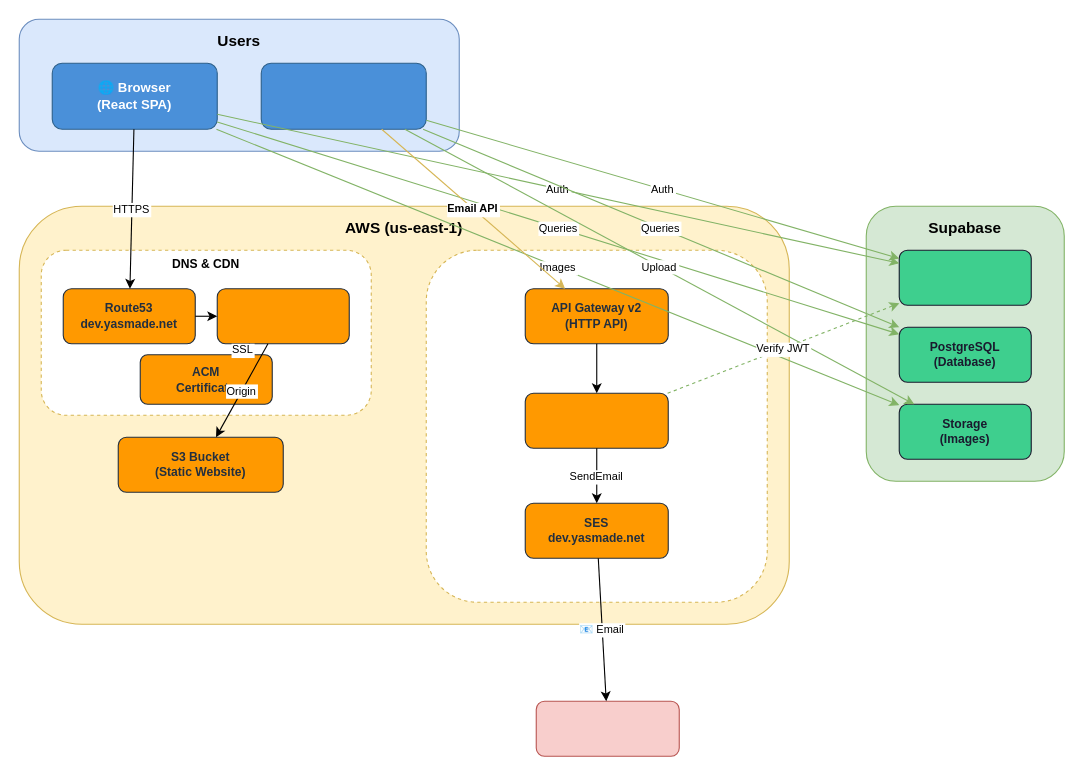
The diagram is 1084 pixels wide and 776 high, and some of its shapes have lost their labels. Here are the shapes that lost their labels. From the top down, the box of each, then its label:
(260, 62, 426, 129): 👤 Admin (Dashboard)
(898, 249, 1031, 305): Auth (JWT)
(216, 288, 349, 344): CloudFront Distribution
(524, 392, 668, 448): Lambda (Node.js 20.x)
(425, 249, 767, 602): Email Service
(535, 700, 679, 756): 📬 Recipients
